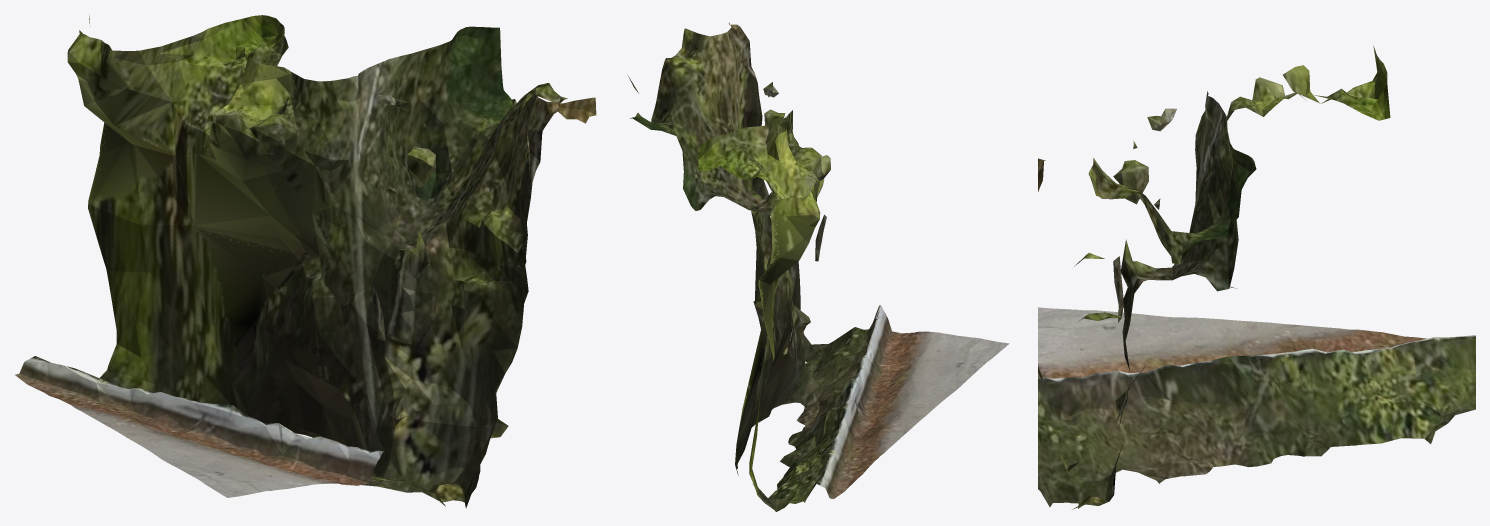
3 views of the same model, side by side, from view 1: azimuth 30°, elevation 25°; view 2: azimuth 150°, elevation 25°; view 3: azimuth 270°, elevation 25° (orthographic). The views are drawn at different scales.
Bounding box in the file's own units: 5.9 × 5.9 × 5.9.
Materials: 4 (4 with a texture image).
